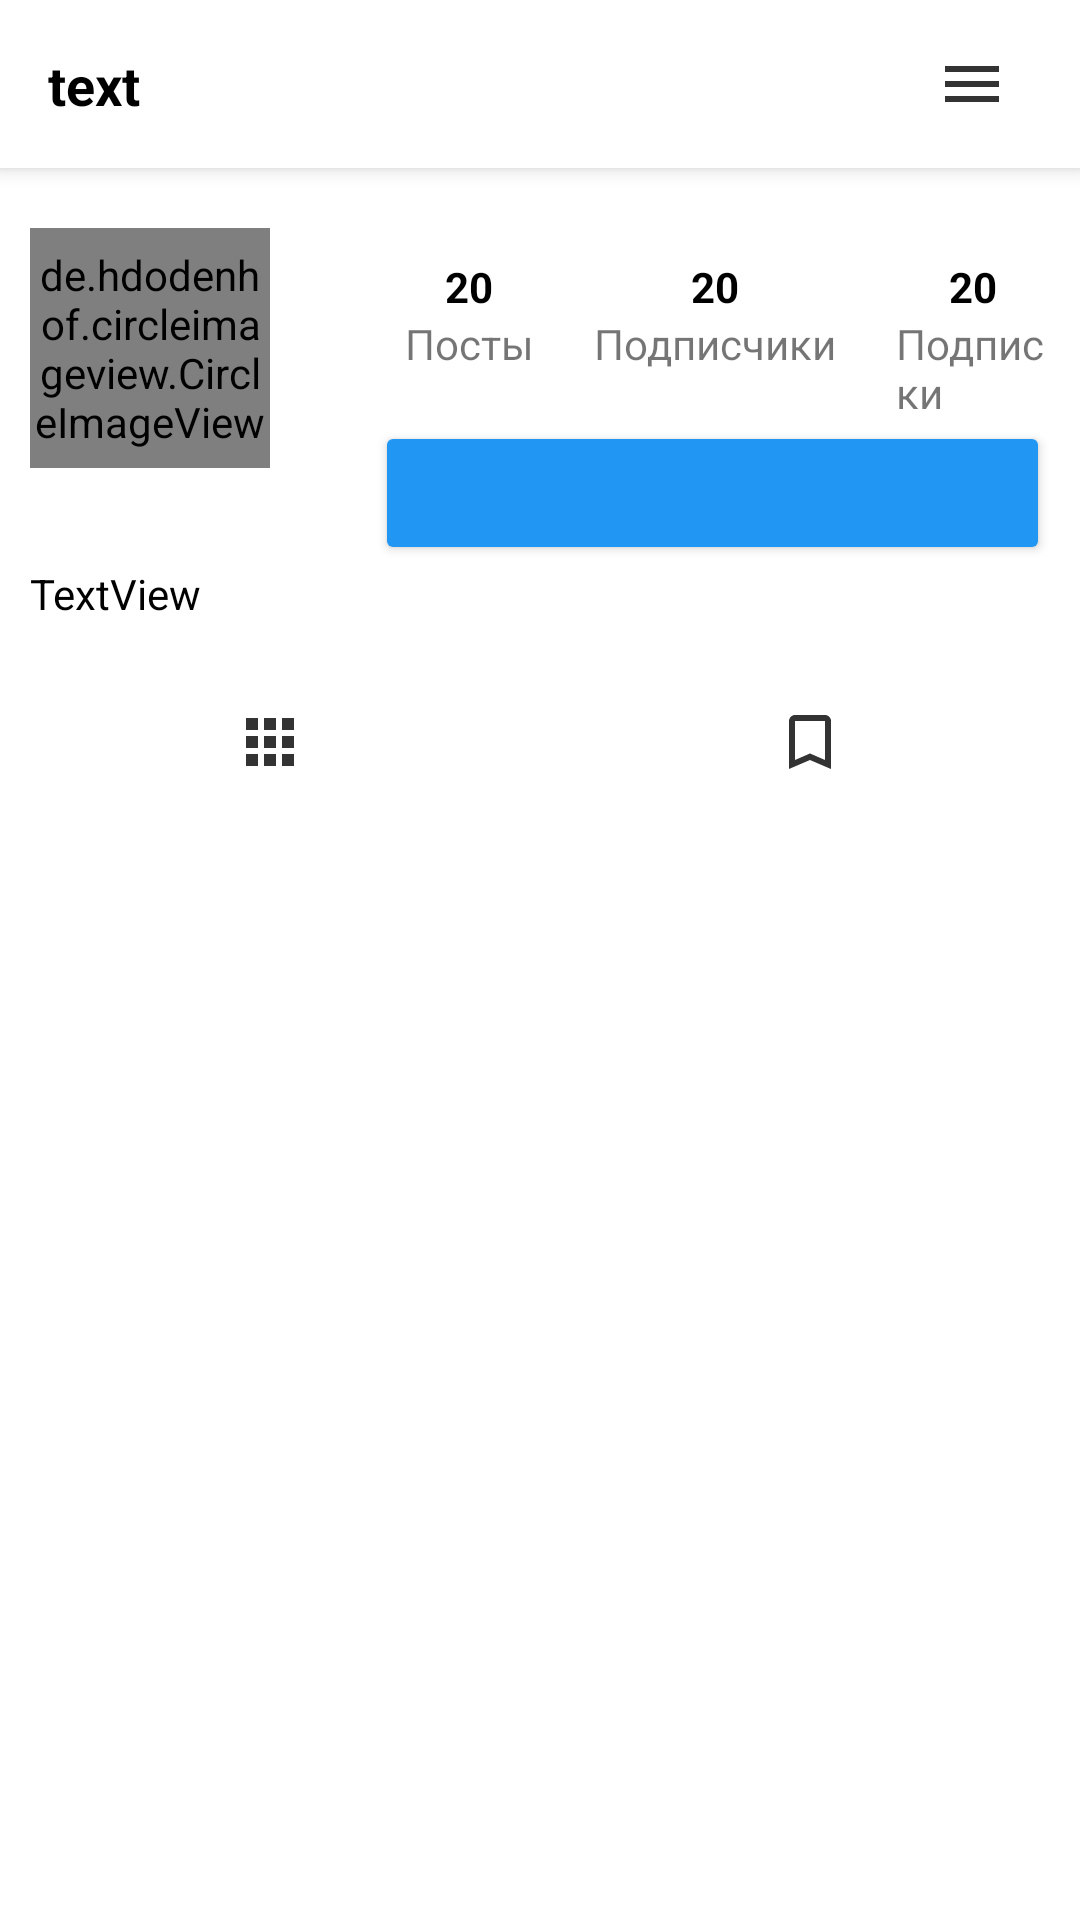

Screen size 1080px x 1920px. Icon name, then its box in pixels as (x1, y1, x2, y2):
options: (945, 66, 999, 102)
save: (789, 715, 831, 769)
